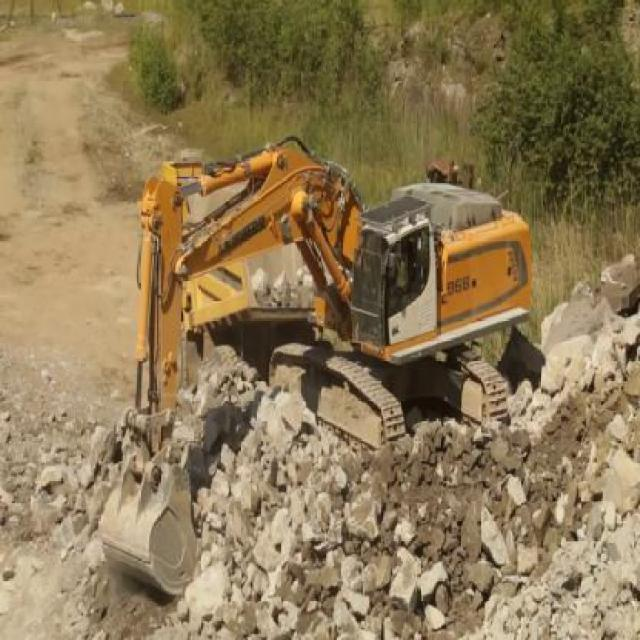Excavator: (95, 132, 537, 600)
